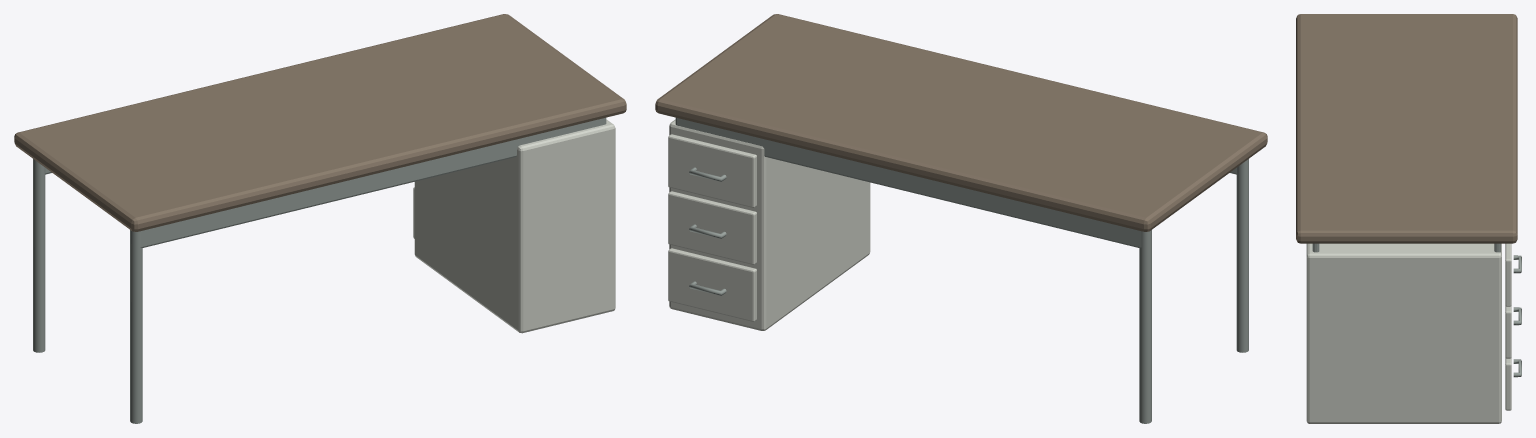
Rendered from av_bench.glb.
3 views of the same model, side by side, from view 1: azimuth 30°, elevation 25°; view 2: azimuth 150°, elevation 25°; view 3: azimuth 270°, elevation 25° (orthographic). The views are drawn at different scales.
Visible parts, largest first — view 1: KitWood, KitIvory, KitSteel; view 2: KitWood, KitIvory, KitSteel; view 3: KitWood, KitIvory, KitSteel.
Boxes of the visible parts, x1,y1,x2,y2 form: KitWood: [14, 14, 626, 231]; KitIvory: [413, 119, 615, 333]; KitSteel: [33, 117, 606, 423]; KitWood: [655, 14, 1267, 231]; KitIvory: [668, 119, 870, 330]; KitSteel: [675, 117, 1248, 423]; KitWood: [1296, 14, 1517, 243]; KitIvory: [1306, 243, 1511, 423]; KitSteel: [1312, 243, 1521, 377].
Bounding box in the file's own units: 2 × 0.8275 × 0.8664.
